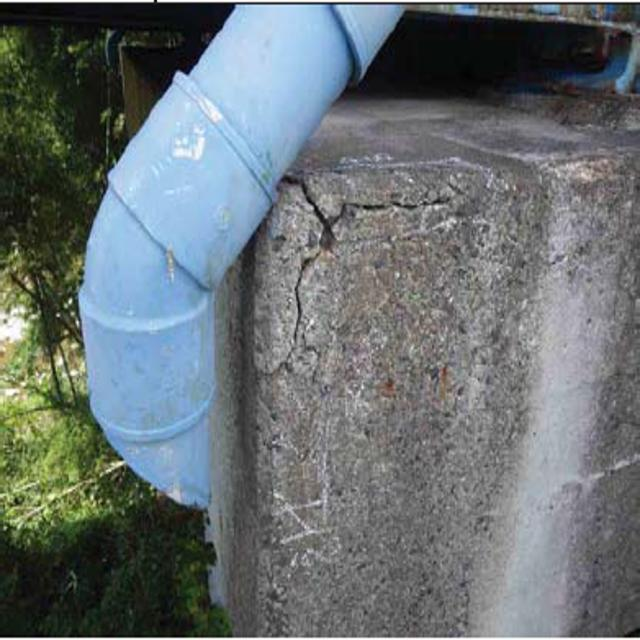crack: (270, 158, 471, 368)
